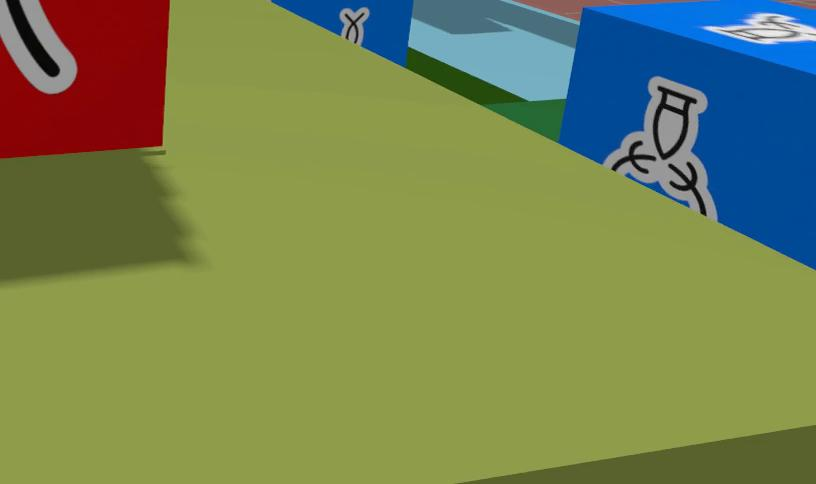KFS_FAKE: (0, 0, 169, 157), (0, 0, 76, 94)
KFS_REAL: (559, 0, 815, 267), (604, 77, 716, 218), (268, 0, 413, 65), (703, 13, 815, 44), (341, 7, 370, 45)
